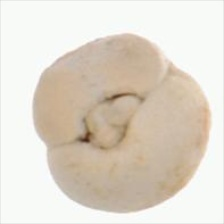L3: (69, 90, 149, 152)
L4: (32, 33, 211, 213)
